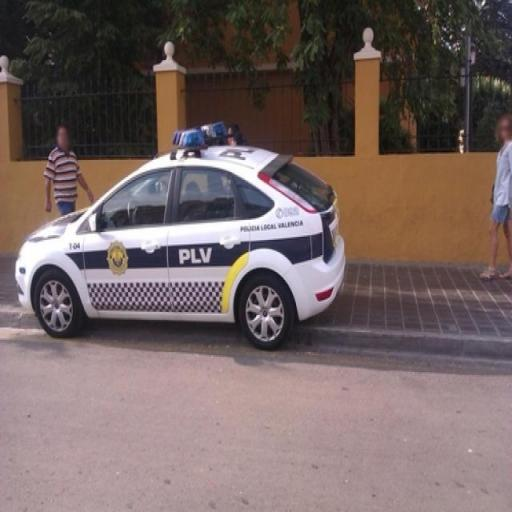Ambulance: (16, 120, 348, 350)
